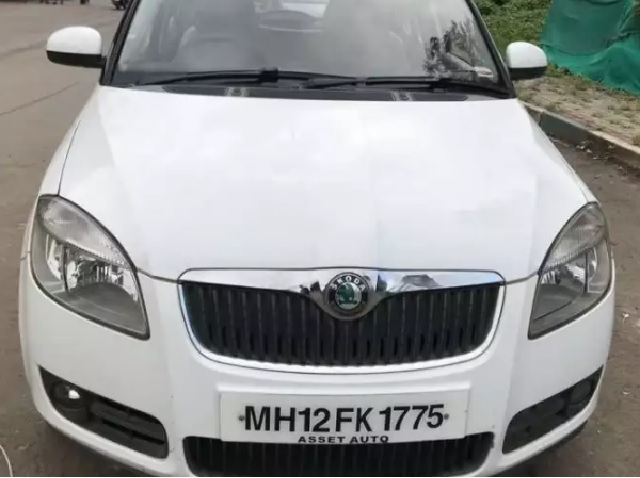licenseplate: (218, 387, 470, 442)
